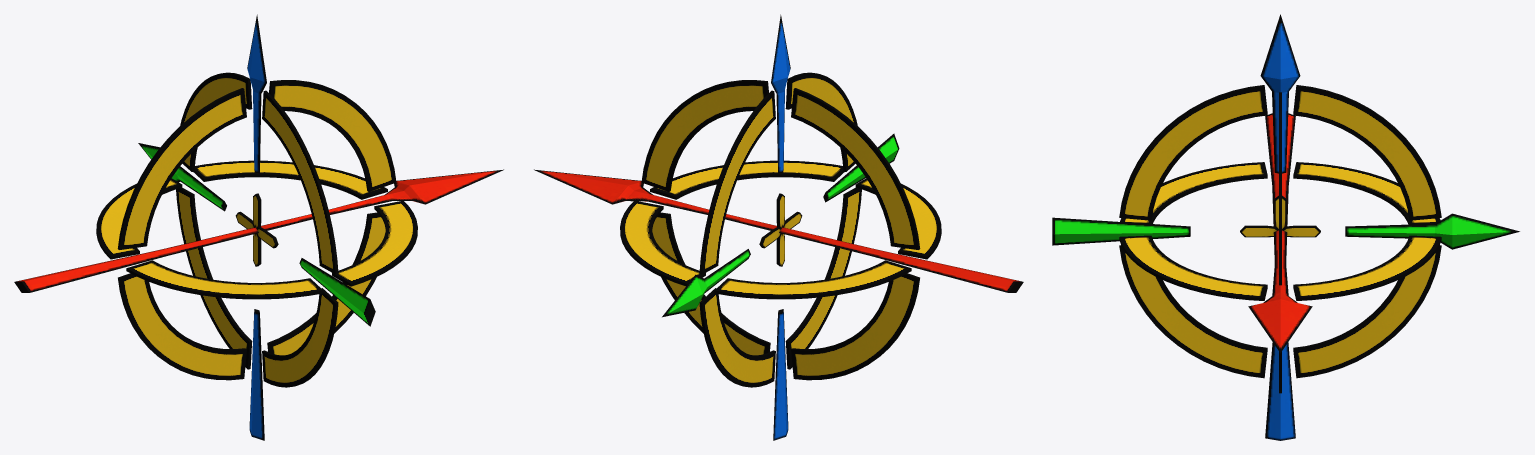
Rendered from axis.fbx.
3 views of the same model, side by side, from view 1: azimuth 30°, elevation 25°; view 2: azimuth 150°, elevation 25°; view 3: azimuth 270°, elevation 25° (orthographic).
Parts seen in each view (by area): view 1: Circle.001, Circle.002, Circle, Cube.002, Cube, Cube.001, Cube.004; view 2: Circle.001, Circle.002, Circle, Cube.002, Cube, Cube.001, Cube.004; view 3: Circle.002, Circle, Cube.001, Cube, Cube.002, Cube.003, Circle.001.
Boxes of the visible parts, x1,y1,x2,y2 form: Circle.001: (117, 80, 396, 380); Circle.002: (176, 72, 338, 387); Circle: (96, 160, 417, 299); Cube.002: (14, 169, 503, 292); Cube: (247, 14, 266, 440); Cube.001: (138, 143, 375, 326); Cube.004: (253, 193, 261, 266); Circle.001: (641, 80, 920, 380); Circle.002: (699, 72, 861, 387); Circle: (620, 160, 941, 299); Cube.002: (534, 169, 1023, 292); Cube: (771, 14, 790, 440); Cube.001: (662, 133, 899, 317); Cube.004: (776, 193, 784, 266); Circle.002: (1119, 85, 1441, 378); Circle: (1119, 162, 1441, 300); Cube.001: (1052, 213, 1519, 249); Cube: (1260, 14, 1300, 440); Cube.002: (1248, 113, 1312, 352); Cube.003: (1240, 225, 1320, 237); Circle.001: (1279, 92, 1281, 393).
Size of the model in its own units: 1.73 by 1.45 by 1.45.
